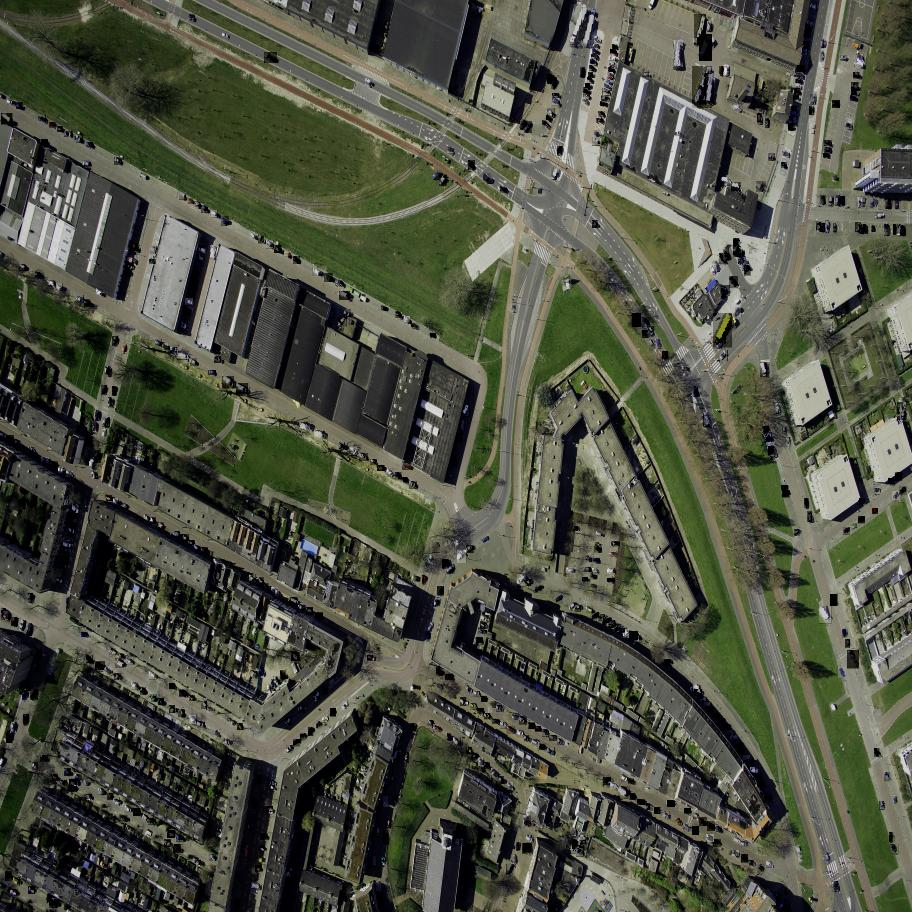large-vehicle: (692, 67, 714, 109), (570, 4, 589, 47), (713, 313, 734, 348), (582, 9, 597, 48), (694, 14, 707, 45), (699, 34, 713, 61), (674, 40, 683, 70), (706, 74, 714, 105)
small-vehicle: (819, 607, 834, 624), (847, 650, 860, 669), (617, 786, 631, 800), (0, 113, 14, 126), (264, 52, 279, 64), (896, 402, 906, 420), (222, 377, 236, 389), (457, 550, 469, 564), (760, 362, 770, 378), (899, 397, 909, 412), (516, 574, 528, 586), (236, 384, 249, 395), (728, 276, 739, 289), (755, 182, 768, 193), (482, 173, 494, 184), (126, 255, 138, 266), (730, 183, 743, 193), (632, 313, 641, 327), (393, 748, 402, 762), (114, 659, 126, 669), (338, 291, 351, 300), (551, 168, 560, 181), (59, 556, 70, 566), (722, 285, 732, 296), (129, 243, 140, 253), (312, 267, 323, 277), (432, 543, 442, 554), (337, 317, 348, 327), (445, 564, 456, 574), (490, 768, 500, 779), (524, 122, 534, 133), (719, 253, 728, 265), (280, 670, 289, 682), (439, 175, 448, 187), (719, 177, 731, 186), (720, 350, 729, 362), (830, 594, 839, 606), (299, 422, 312, 430), (172, 844, 182, 854), (4, 871, 14, 881), (290, 652, 300, 662), (386, 468, 396, 478), (255, 578, 265, 588), (898, 486, 908, 496), (71, 504, 82, 513), (95, 662, 106, 671), (102, 417, 111, 428), (288, 597, 299, 606), (401, 461, 412, 470), (732, 248, 743, 257), (507, 865, 516, 876), (698, 817, 709, 826), (838, 667, 847, 678), (689, 684, 700, 693), (854, 60, 865, 69), (704, 413, 711, 427), (95, 451, 103, 463), (723, 249, 731, 261), (427, 621, 435, 633), (648, 339, 656, 351), (177, 353, 190, 360), (113, 157, 123, 166), (68, 520, 78, 529), (30, 690, 39, 700), (103, 666, 113, 675), (744, 266, 753, 276), (735, 307, 744, 317), (49, 899, 59, 908), (12, 877, 22, 886), (180, 535, 190, 544), (95, 289, 105, 298), (149, 246, 159, 255), (284, 716, 294, 725), (349, 446, 358, 456), (341, 701, 350, 711), (273, 245, 283, 254), (324, 274, 334, 283), (467, 160, 476, 170), (732, 104, 742, 113), (546, 108, 556, 117), (546, 747, 556, 756), (602, 778, 612, 787), (518, 716, 527, 726), (765, 436, 774, 446), (768, 446, 777, 456), (629, 632, 639, 641), (608, 620, 618, 629), (707, 822, 717, 831), (691, 826, 700, 836), (5, 436, 16, 444), (10, 723, 18, 734), (742, 260, 750, 271), (313, 430, 324, 438), (19, 619, 26, 631), (274, 676, 281, 688), (36, 649, 43, 661), (885, 198, 892, 210), (811, 94, 818, 106), (869, 196, 876, 208), (28, 448, 37, 457), (56, 283, 65, 292), (189, 716, 198, 725), (221, 217, 230, 226), (365, 78, 374, 87), (433, 172, 442, 181), (460, 697, 469, 706), (465, 686, 474, 695), (609, 61, 618, 70), (642, 318, 651, 327), (453, 738, 462, 747), (541, 729, 550, 738), (569, 602, 578, 611), (576, 848, 585, 857), (592, 137, 601, 146), (706, 835, 715, 844), (662, 811, 671, 820), (757, 864, 766, 873), (803, 30, 812, 39), (850, 522, 859, 531), (694, 689, 703, 698), (851, 82, 860, 91), (832, 100, 841, 109), (148, 671, 158, 679), (50, 461, 60, 469), (81, 160, 91, 168), (6, 733, 14, 743), (27, 886, 37, 894), (175, 834, 185, 842), (11, 617, 19, 627), (132, 809, 142, 817), (166, 830, 176, 838), (292, 739, 302, 747), (382, 833, 390, 843), (456, 433, 464, 443), (451, 456, 459, 466), (437, 586, 445, 596), (435, 668, 445, 676), (479, 621, 489, 629), (733, 239, 741, 249), (547, 74, 555, 84), (470, 752, 480, 760), (620, 774, 630, 782), (124, 806, 134, 814), (554, 594, 564, 602), (520, 120, 528, 130), (541, 121, 551, 129), (32, 661, 39, 672), (580, 67, 587, 78), (551, 78, 558, 89), (648, 326, 655, 337), (534, 586, 545, 593), (855, 222, 862, 233), (884, 225, 891, 236), (900, 225, 907, 236), (67, 526, 76, 534), (75, 135, 84, 143), (130, 682, 139, 690), (55, 578, 64, 586), (64, 769, 73, 777), (112, 798, 121, 806), (124, 269, 133, 277), (169, 705, 177, 714), (149, 518, 158, 526), (209, 854, 218, 862), (254, 865, 263, 873), (142, 515, 151, 523), (213, 730, 221, 739), (141, 814, 150, 822), (198, 248, 207, 256), (154, 339, 163, 347), (185, 299, 194, 307), (162, 343, 171, 351), (190, 359, 199, 367), (359, 453, 368, 461), (313, 693, 322, 701), (321, 686, 329, 695), (286, 745, 294, 754), (383, 796, 389, 808), (266, 241, 275, 249), (344, 309, 353, 317), (466, 546, 475, 554), (435, 682, 444, 690), (489, 701, 497, 710), (591, 220, 600, 228), (525, 835, 534, 843), (584, 555, 593, 563), (551, 99, 560, 107), (545, 115, 554, 123), (602, 89, 611, 97), (257, 236, 266, 244), (767, 443, 776, 451), (768, 153, 777, 161), (741, 855, 750, 863), (712, 839, 721, 847), (884, 773, 892, 782), (891, 845, 899, 854), (789, 117, 798, 125), (716, 341, 725, 349), (806, 20, 815, 28), (684, 824, 693, 832), (857, 517, 866, 525), (859, 499, 868, 507), (892, 492, 901, 500), (895, 472, 903, 481), (843, 527, 852, 535), (782, 490, 791, 498), (824, 147, 833, 155), (824, 140, 833, 148), (37, 116, 47, 123), (39, 755, 49, 762), (23, 715, 30, 725), (713, 262, 720, 272), (163, 840, 173, 847), (477, 628, 487, 635), (526, 843, 533, 853), (478, 757, 485, 767), (554, 824, 564, 831), (602, 618, 612, 625), (828, 197, 835, 207), (657, 353, 664, 363), (721, 288, 727, 299), (27, 624, 33, 635), (464, 406, 470, 417), (824, 853, 830, 864), (16, 103, 24, 111), (14, 440, 22, 448), (75, 775, 83, 783), (65, 535, 73, 543), (31, 762, 39, 770), (86, 656, 94, 664), (52, 774, 60, 782), (507, 783, 515, 791), (200, 702, 208, 710), (140, 687, 148, 695), (249, 574, 257, 582), (236, 723, 244, 731), (177, 710, 185, 718), (179, 193, 187, 201), (271, 587, 279, 595), (293, 257, 301, 265), (395, 473, 403, 481), (442, 561, 450, 569), (481, 615, 489, 623), (606, 78, 614, 86), (642, 331, 650, 339), (465, 747, 473, 755), (581, 833, 589, 841), (127, 262, 135, 270), (623, 630, 631, 638), (594, 130, 602, 138), (802, 42, 810, 50), (801, 48, 809, 56), (795, 83, 803, 91), (805, 25, 813, 33), (675, 818, 683, 826), (888, 478, 896, 486), (583, 87, 591, 95), (499, 776, 507, 784), (857, 55, 865, 63), (788, 123, 796, 131), (101, 430, 108, 439), (63, 541, 72, 548), (63, 547, 72, 554), (101, 386, 108, 395), (114, 673, 123, 680), (108, 648, 117, 655), (69, 779, 78, 786), (69, 785, 78, 792), (121, 344, 128, 353), (113, 337, 120, 346), (739, 250, 746, 259), (738, 258, 747, 265), (10, 889, 19, 896), (206, 706, 215, 713), (19, 264, 28, 271), (234, 899, 241, 908), (308, 727, 315, 736), (330, 708, 337, 717), (481, 536, 490, 543), (408, 482, 417, 489), (434, 598, 441, 607), (427, 554, 434, 563), (475, 637, 484, 644), (585, 607, 594, 614), (731, 851, 740, 858), (653, 807, 662, 814), (662, 351, 669, 360), (717, 718, 726, 725), (875, 212, 884, 219), (872, 199, 879, 208), (89, 458, 95, 468), (23, 690, 29, 700), (211, 246, 216, 258), (376, 881, 382, 891), (444, 675, 454, 681), (531, 740, 541, 746), (724, 64, 729, 76), (656, 339, 662, 349), (856, 196, 862, 206), (56, 126, 64, 133), (71, 510, 79, 517), (151, 695, 159, 702), (97, 789, 105, 796), (83, 779, 91, 786), (84, 300, 92, 307), (59, 779, 67, 786), (699, 696, 707, 703), (158, 699, 166, 706), (200, 547, 208, 554), (197, 722, 205, 729), (157, 523, 165, 530), (107, 794, 115, 801), (211, 211, 219, 218), (181, 322, 189, 329), (214, 356, 222, 363), (306, 608, 314, 615), (298, 706, 306, 713), (284, 251, 291, 259), (427, 720, 435, 727), (508, 726, 516, 733), (611, 44, 619, 51), (403, 317, 411, 324), (395, 312, 403, 319), (594, 547, 602, 554), (604, 84, 612, 91), (523, 735, 531, 742), (610, 783, 618, 790), (517, 731, 525, 738), (569, 848, 577, 855), (598, 615, 606, 622), (526, 579, 533, 587), (692, 814, 700, 821), (667, 800, 675, 807), (874, 749, 881, 757), (797, 66, 805, 73), (796, 72, 804, 79), (794, 88, 802, 95), (810, 3, 818, 10), (522, 843, 527, 854), (64, 131, 73, 137), (65, 472, 74, 478), (26, 683, 32, 692), (314, 613, 323, 619), (446, 148, 455, 154), (387, 820, 393, 829), (511, 715, 520, 721), (456, 626, 465, 632), (469, 704, 478, 710), (577, 832, 583, 841), (637, 799, 646, 805), (733, 838, 742, 844), (820, 196, 826, 205), (845, 639, 851, 648), (785, 438, 791, 447), (781, 152, 790, 158), (557, 147, 563, 156), (820, 223, 826, 232), (825, 220, 829, 233), (379, 893, 384, 903), (765, 118, 770, 128), (573, 839, 578, 849), (195, 202, 202, 209), (202, 206, 209, 213), (250, 232, 257, 239), (316, 722, 323, 729), (590, 59, 597, 66), (607, 73, 614, 80), (630, 794, 637, 801), (763, 427, 770, 434), (770, 454, 777, 461), (42, 457, 50, 463), (121, 503, 129, 509), (76, 296, 84, 302), (120, 815, 128, 821), (245, 844, 249, 856), (188, 287, 196, 293), (377, 465, 385, 471), (297, 604, 305, 610), (268, 785, 276, 791), (260, 834, 268, 840), (499, 187, 507, 193), (411, 725, 417, 733), (481, 696, 489, 702), (609, 56, 617, 62), (719, 67, 725, 75), (590, 574, 598, 580), (6, 99, 14, 105), (764, 433, 772, 439), (614, 625, 622, 631), (528, 723, 536, 729), (757, 781, 765, 787), (740, 841, 748, 847), (684, 809, 692, 815), (765, 796, 773, 802), (738, 748, 746, 754), (746, 760, 754, 766), (840, 55, 848, 61), (780, 163, 788, 169), (29, 593, 34, 602), (393, 797, 398, 806), (834, 882, 839, 891), (840, 196, 845, 205), (820, 52, 825, 61), (753, 774, 762, 779), (842, 629, 847, 638), (405, 752, 409, 763), (70, 516, 77, 522), (49, 122, 56, 128), (106, 495, 113, 501), (189, 695, 196, 701), (194, 544, 201, 550), (252, 882, 259, 888), (187, 198, 194, 204), (263, 584, 270, 590), (381, 305, 388, 311), (474, 691, 481, 697), (608, 68, 615, 74), (566, 567, 573, 573), (601, 95, 608, 101), (578, 845, 585, 851), (592, 614, 599, 620), (766, 861, 772, 868), (794, 93, 800, 100), (726, 730, 733, 736), (874, 488, 881, 494), (582, 99, 589, 105), (846, 124, 853, 130), (92, 422, 96, 432), (112, 386, 116, 396), (66, 598, 70, 608), (172, 532, 180, 537), (710, 266, 715, 274), (257, 775, 262, 783), (252, 811, 256, 821), (191, 283, 199, 288), (149, 259, 157, 264), (208, 371, 216, 376), (376, 827, 380, 837), (492, 719, 500, 724), (549, 735, 557, 740), (260, 667, 264, 677), (735, 743, 743, 748), (804, 499, 809, 507), (816, 222, 821, 230), (859, 224, 863, 234), (777, 894, 780, 907), (58, 467, 64, 473), (339, 443, 345, 449), (272, 679, 275, 691), (427, 631, 431, 640), (496, 705, 502, 711), (589, 65, 595, 71), (531, 818, 535, 827), (484, 763, 490, 769), (597, 531, 603, 537), (557, 738, 563, 744), (716, 826, 722, 832), (835, 196, 839, 205), (872, 508, 878, 514), (808, 512, 812, 521), (809, 106, 813, 115), (851, 89, 857, 95), (854, 72, 860, 78), (114, 498, 119, 505), (222, 33, 229, 38), (646, 803, 651, 810), (195, 262, 202, 267), (186, 305, 193, 310), (183, 311, 190, 316), (191, 277, 198, 282), (370, 460, 377, 465), (266, 807, 273, 812), (148, 819, 155, 824), (600, 101, 607, 106), (596, 118, 603, 123), (642, 72, 649, 77), (791, 107, 798, 112), (880, 802, 885, 809), (743, 755, 750, 760), (86, 142, 94, 146), (611, 542, 619, 546), (757, 114, 761, 122), (722, 725, 730, 729), (730, 736, 738, 740), (96, 410, 99, 420), (180, 690, 185, 696), (2, 609, 5, 619), (119, 654, 125, 659), (169, 683, 174, 689), (196, 859, 201, 865), (188, 540, 194, 545), (49, 281, 55, 286), (226, 738, 231, 744), (336, 280, 342, 285), (461, 420, 464, 430), (434, 725, 439, 731), (588, 72, 593, 78), (708, 21, 711, 31), (447, 734, 452, 740), (540, 744, 545, 750), (259, 846, 265, 851), (665, 660, 670, 666), (791, 111, 796, 117), (784, 905, 790, 910), (895, 199, 898, 209), (41, 140, 48, 144), (170, 348, 177, 352), (188, 294, 195, 298), (477, 709, 484, 713), (593, 558, 600, 562), (584, 567, 591, 571), (761, 789, 768, 793), (516, 842, 519, 851), (776, 404, 779, 413), (890, 833, 893, 842), (833, 223, 836, 232), (367, 655, 372, 660), (82, 632, 87, 637), (485, 714, 490, 719), (501, 723, 506, 728), (573, 526, 578, 531), (634, 637, 639, 642), (620, 628, 625, 633), (749, 860, 754, 865), (851, 95, 856, 100), (106, 366, 109, 374), (189, 15, 195, 19), (898, 225, 901, 233), (373, 857, 376, 865), (535, 727, 541, 731), (580, 840, 586, 844), (388, 776, 391, 784), (127, 660, 133, 664), (608, 569, 614, 573), (893, 796, 896, 804), (796, 80, 802, 84), (782, 486, 788, 490), (90, 436, 92, 447), (249, 824, 252, 831), (59, 564, 64, 568), (35, 273, 40, 277), (193, 271, 198, 275), (300, 735, 305, 739), (322, 718, 327, 722), (611, 50, 616, 54), (583, 577, 588, 581), (524, 816, 526, 826), (411, 324, 416, 328), (599, 112, 604, 116), (431, 333, 436, 337), (629, 779, 633, 784), (576, 606, 580, 611), (708, 708, 713, 712), (795, 530, 799, 535), (585, 83, 590, 87), (705, 702, 710, 706), (894, 225, 896, 235), (861, 197, 863, 207), (109, 398, 111, 407), (85, 795, 91, 798), (591, 55, 597, 58), (528, 816, 530, 825), (610, 553, 616, 556), (514, 855, 516, 864), (608, 579, 614, 582), (695, 387, 697, 396), (713, 714, 719, 717), (584, 95, 590, 98), (783, 428, 786, 434), (6, 612, 8, 620), (253, 801, 255, 809), (268, 685, 270, 693), (270, 781, 274, 785), (404, 478, 408, 482), (595, 37, 599, 41), (593, 568, 597, 572), (588, 77, 592, 81), (751, 768, 755, 772), (824, 153, 828, 157), (592, 50, 597, 53), (573, 831, 576, 836), (553, 94, 558, 97), (783, 900, 788, 903), (382, 857, 384, 863), (595, 543, 599, 546), (872, 225, 874, 231), (594, 45, 599, 47), (423, 575, 424, 584), (822, 40, 823, 47), (864, 225, 865, 232)
